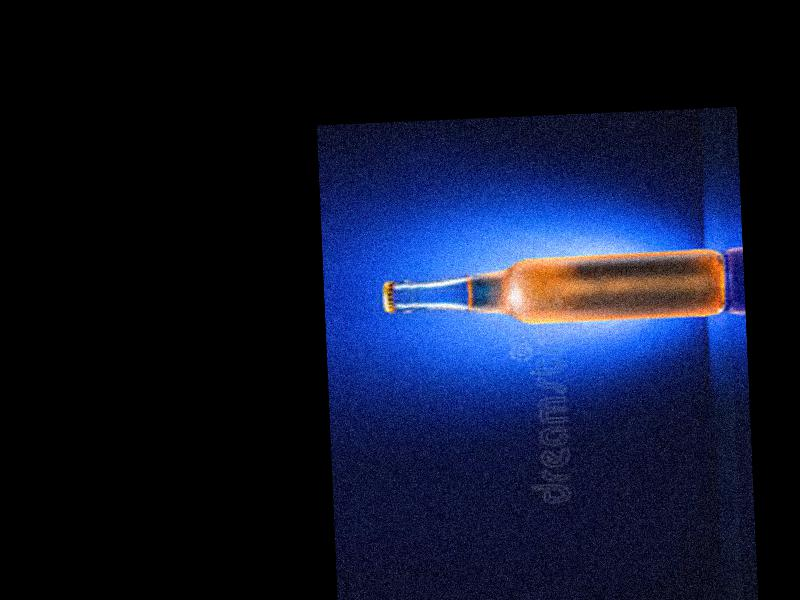Beer: (381, 245, 725, 332)
